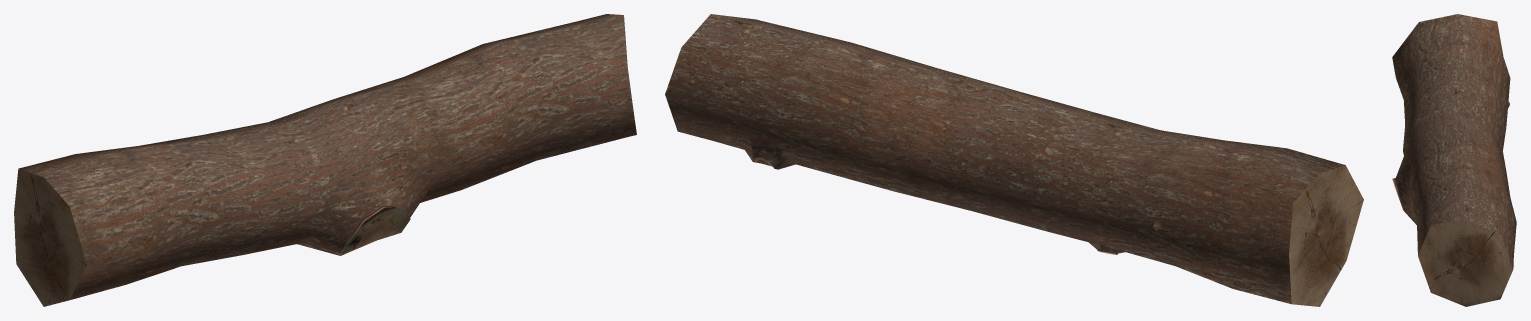
File: log2.fbx
3 views of the same model, side by side, from view 1: azimuth 30°, elevation 25°; view 2: azimuth 150°, elevation 25°; view 3: azimuth 270°, elevation 25° (orthographic). The views are drawn at different scales.
Visible parts, largest first — view 1: WoodLog_Short_02; view 2: WoodLog_Short_02; view 3: WoodLog_Short_02.
Boxes of the visible parts, x1=… form: WoodLog_Short_02: x1=14, y1=14, x2=636, y2=306; WoodLog_Short_02: x1=665, y1=14, x2=1363, y2=306; WoodLog_Short_02: x1=1392, y1=14, x2=1516, y2=306.
Bounding box in the file's own units: 195 × 46.58 × 46.14.
